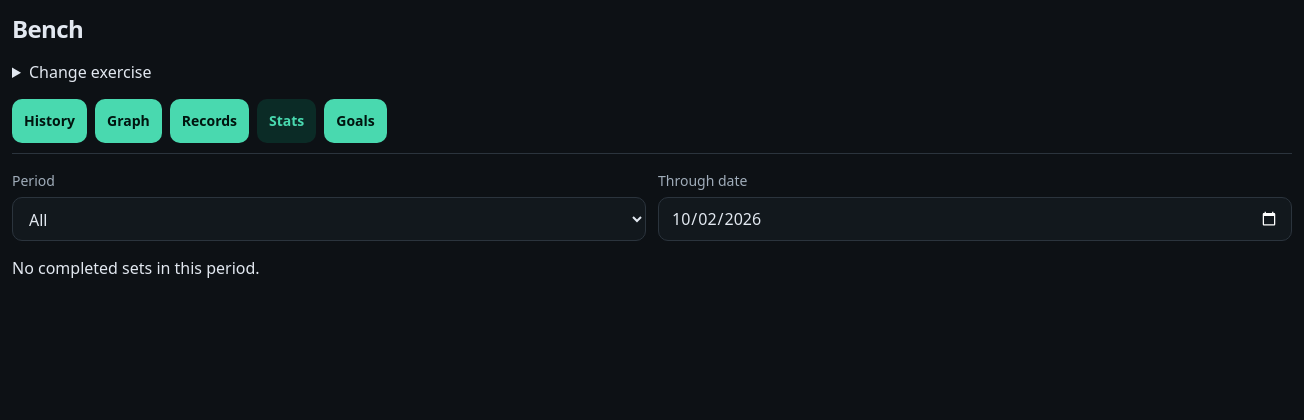
Scenario: does not repeat the exercise selector inside exercise progress
Click the button with aria-label "Exercise progress".
click(128, 121)  # box top-left (95, 99), bottom-right (162, 143)
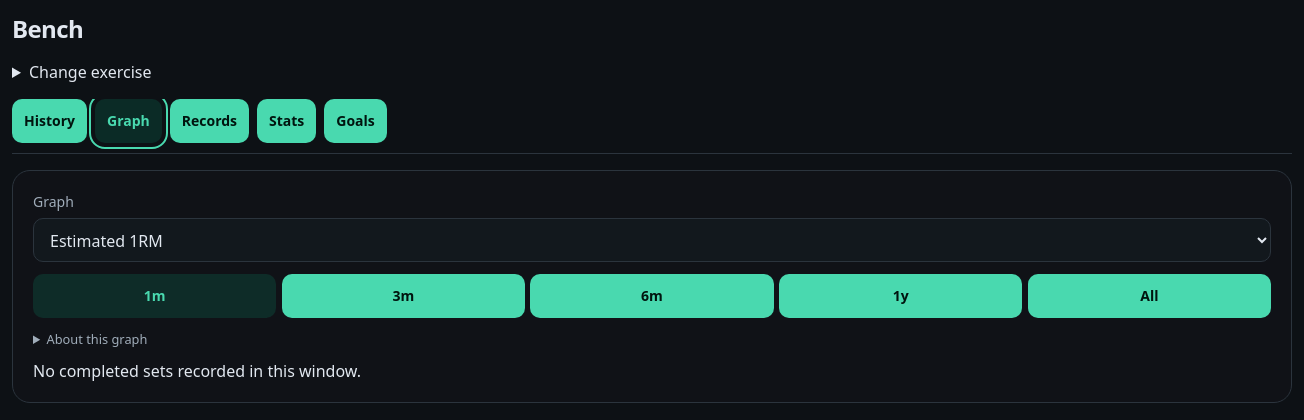
Now the dropdown labelled "Graph" is shown, box top-left (33, 218), bottom-right (1271, 262)
